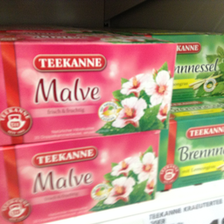tea: (1, 35, 176, 147), (1, 130, 161, 224)
